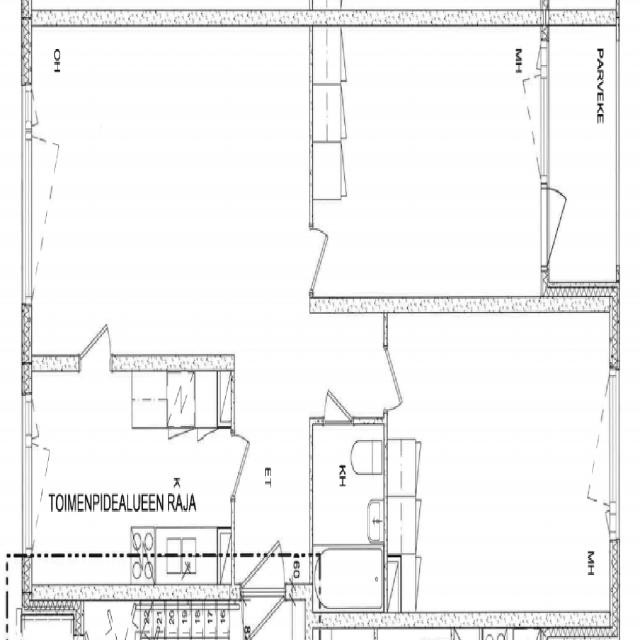door: (241, 498, 284, 601), (541, 188, 587, 266), (80, 294, 111, 371), (384, 348, 418, 410), (231, 436, 265, 498), (309, 229, 343, 290), (324, 363, 352, 424)
